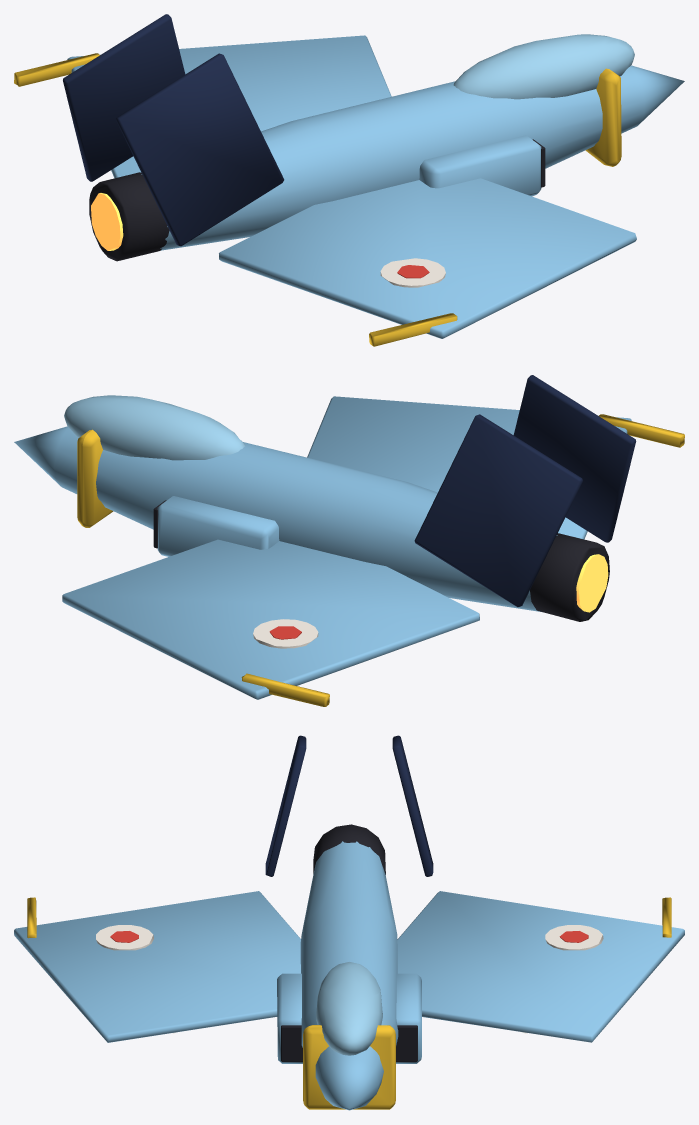
File: jet.glb
3 views of the same model, one above another, from view 1: azimuth 30°, elevation 25°; view 2: azimuth 150°, elevation 25°; view 3: azimuth 270°, elevation 25° (orthographic). The views are drawn at different scales.
Parts seen in each view (by area): view 1: jet; view 2: jet; view 3: jet.
Part boxes in pixels (bbox=[...]): jet: bbox=[14, 14, 684, 346]; jet: bbox=[14, 375, 684, 706]; jet: bbox=[14, 735, 684, 1110].
Bounding box in the file's own units: 12.57 × 4.47 × 13.73.
Materials: 1 (1 with a texture image).
